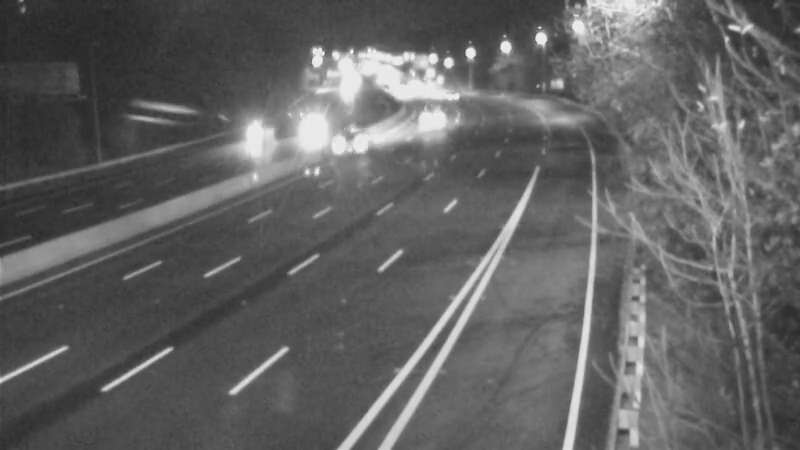vehicle: (428, 72, 478, 122), (397, 73, 447, 123), (405, 95, 455, 145), (332, 115, 382, 165), (232, 114, 282, 164), (289, 105, 339, 155)
